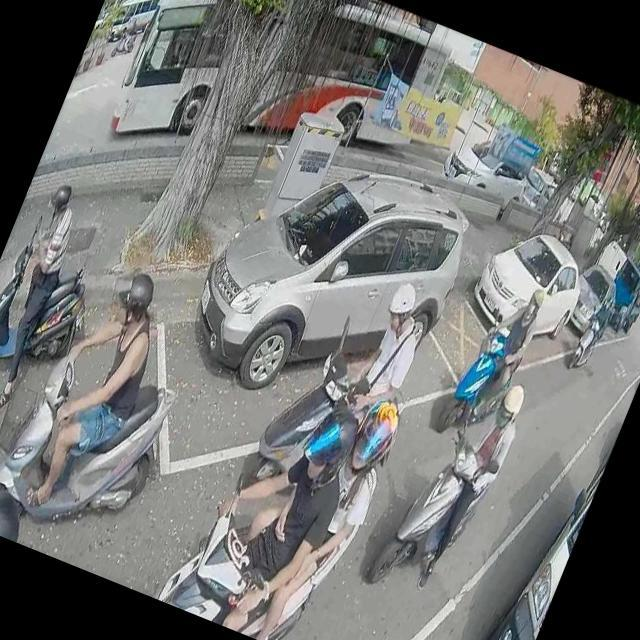person: (174, 372, 374, 640), (4, 247, 184, 532), (215, 378, 403, 640), (408, 365, 536, 601), (0, 170, 96, 418), (446, 264, 554, 436), (338, 274, 438, 430), (0, 476, 35, 542), (584, 294, 618, 344), (115, 11, 141, 53)
